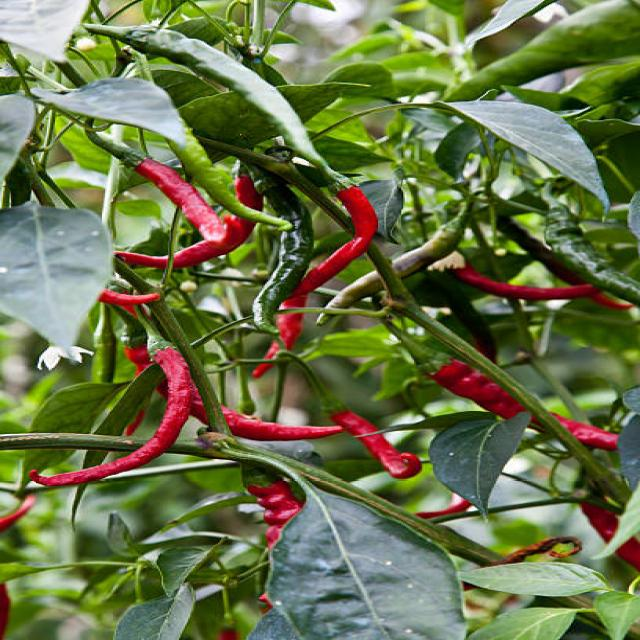Ripe: (28, 338, 199, 488), (276, 188, 376, 351), (119, 216, 254, 270), (137, 158, 223, 232), (331, 411, 420, 478), (428, 360, 524, 418), (224, 409, 345, 442), (248, 479, 303, 548), (554, 413, 615, 450)
Unripe: (549, 200, 640, 311), (177, 143, 289, 231), (257, 202, 309, 322)
